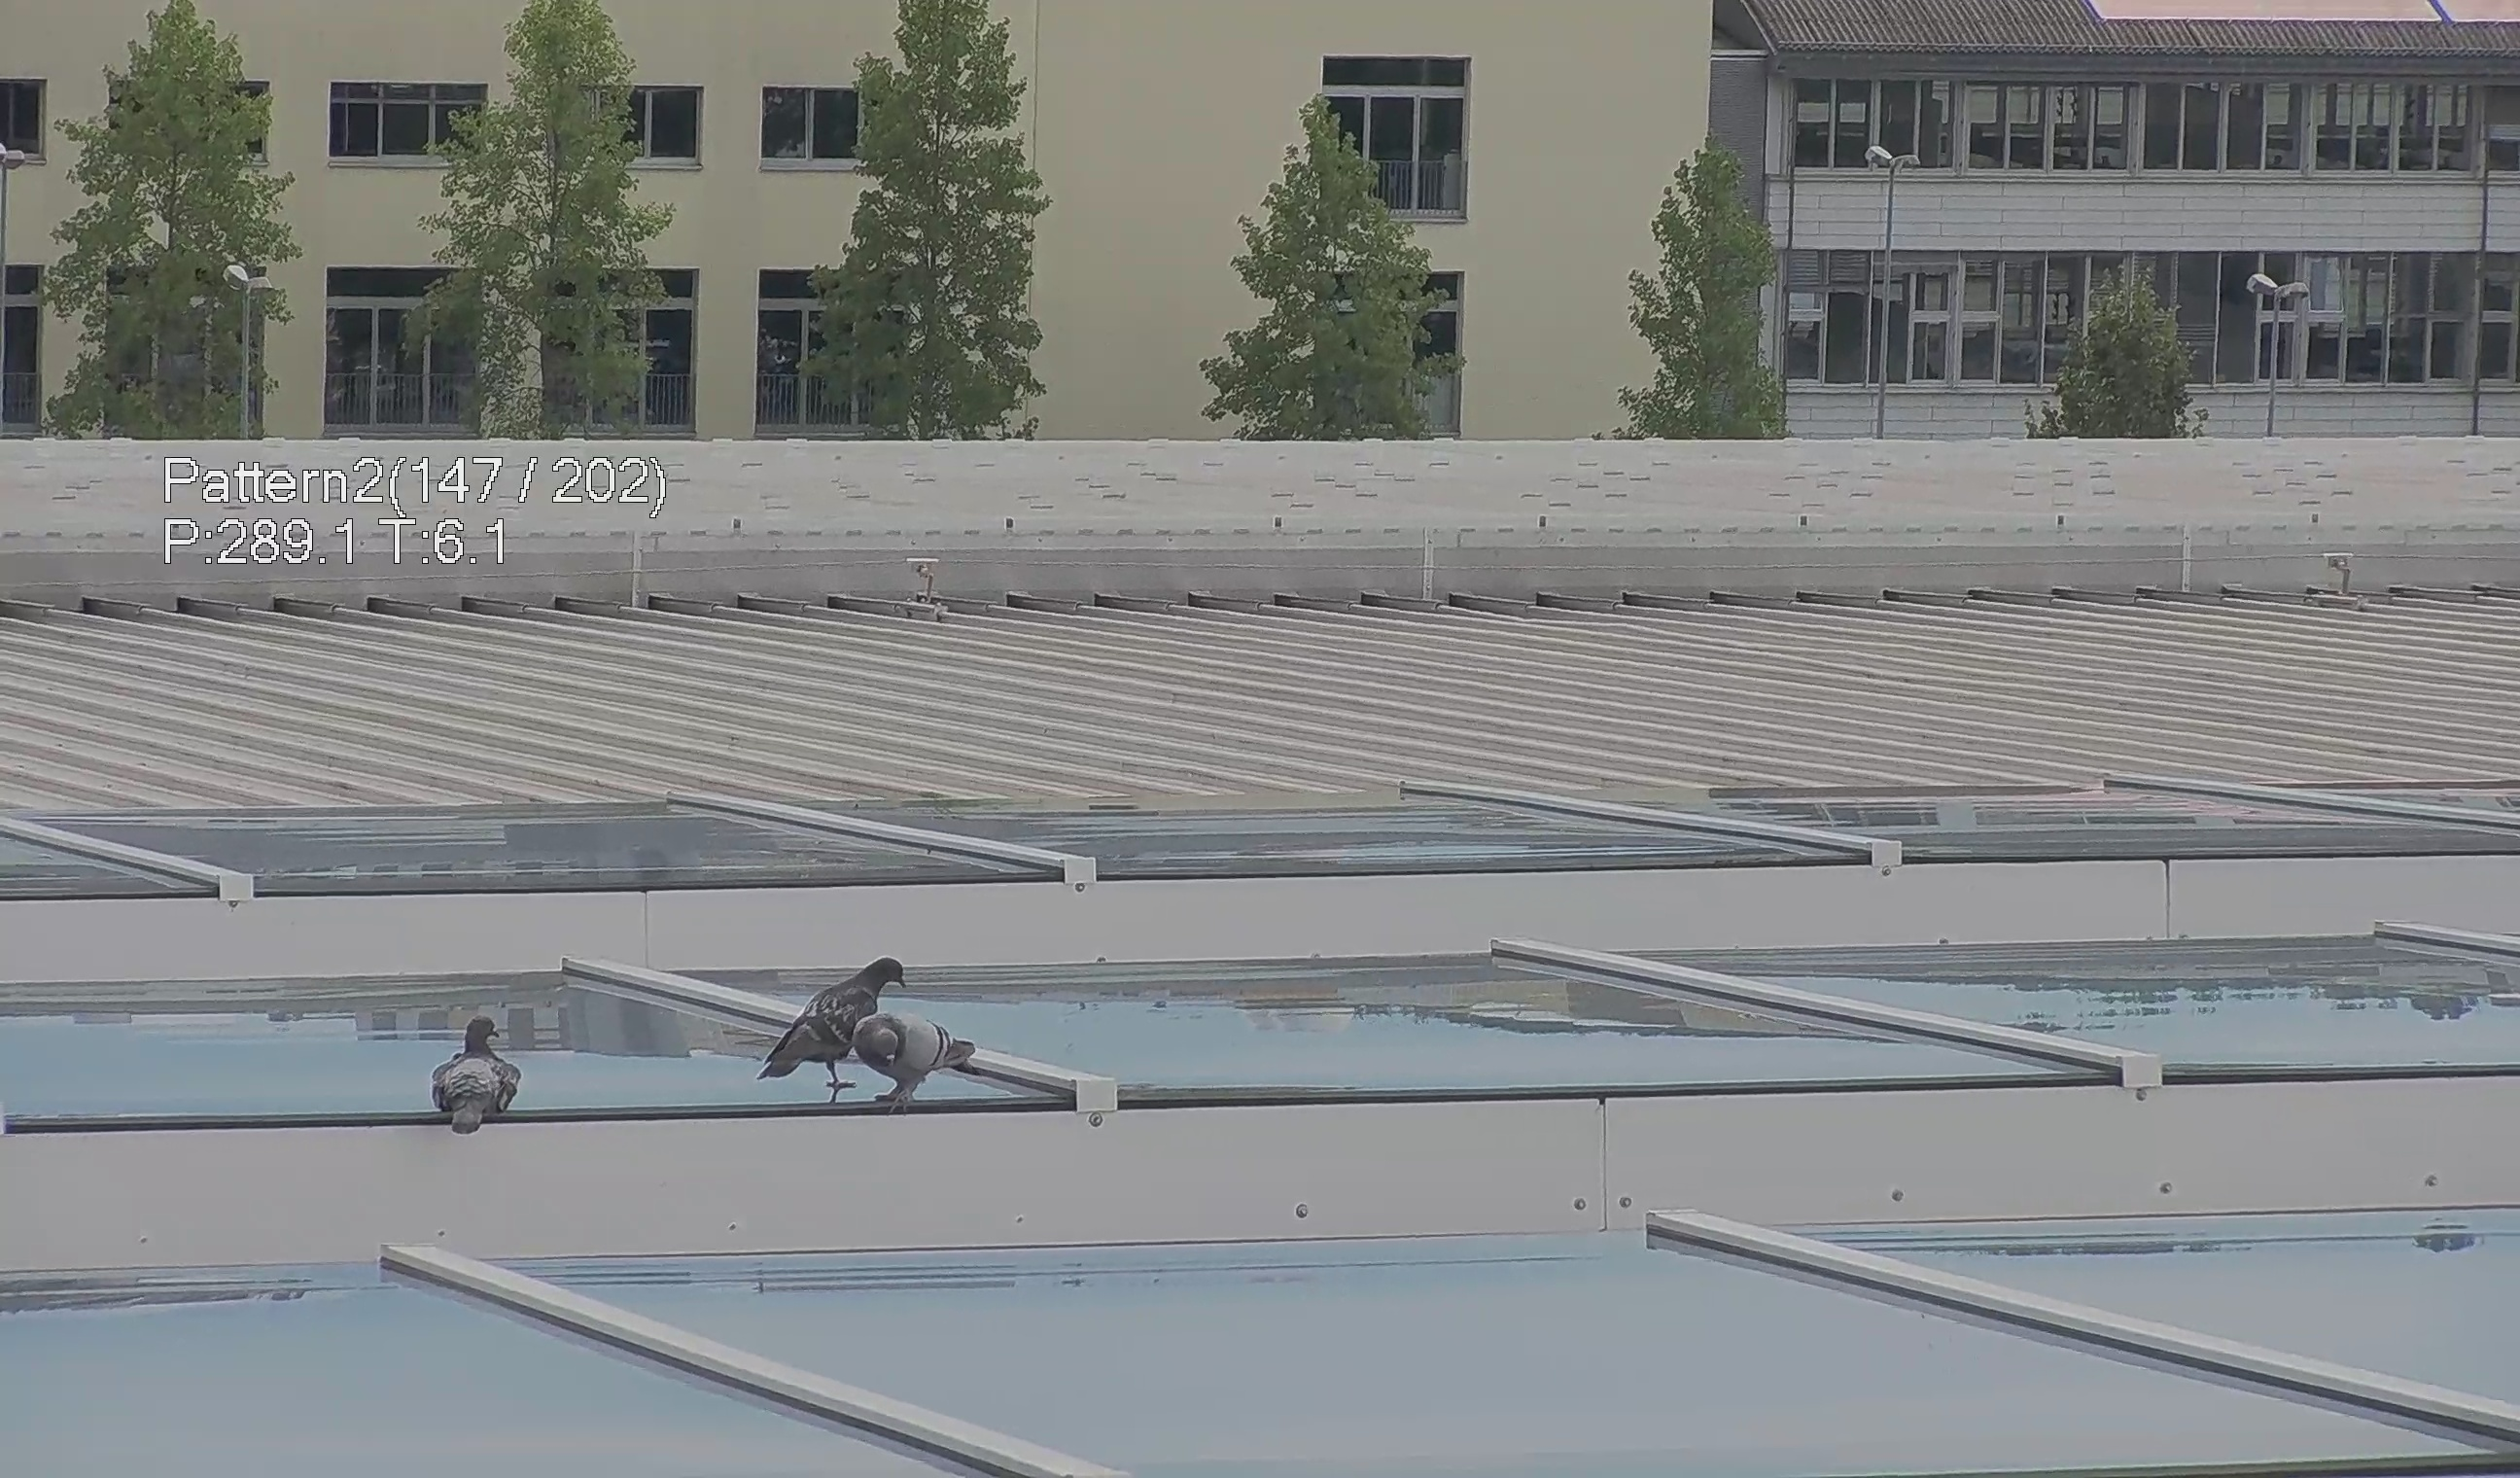Pigeon: (747, 952, 927, 1103), (844, 996, 999, 1110), (406, 1008, 512, 1149)
